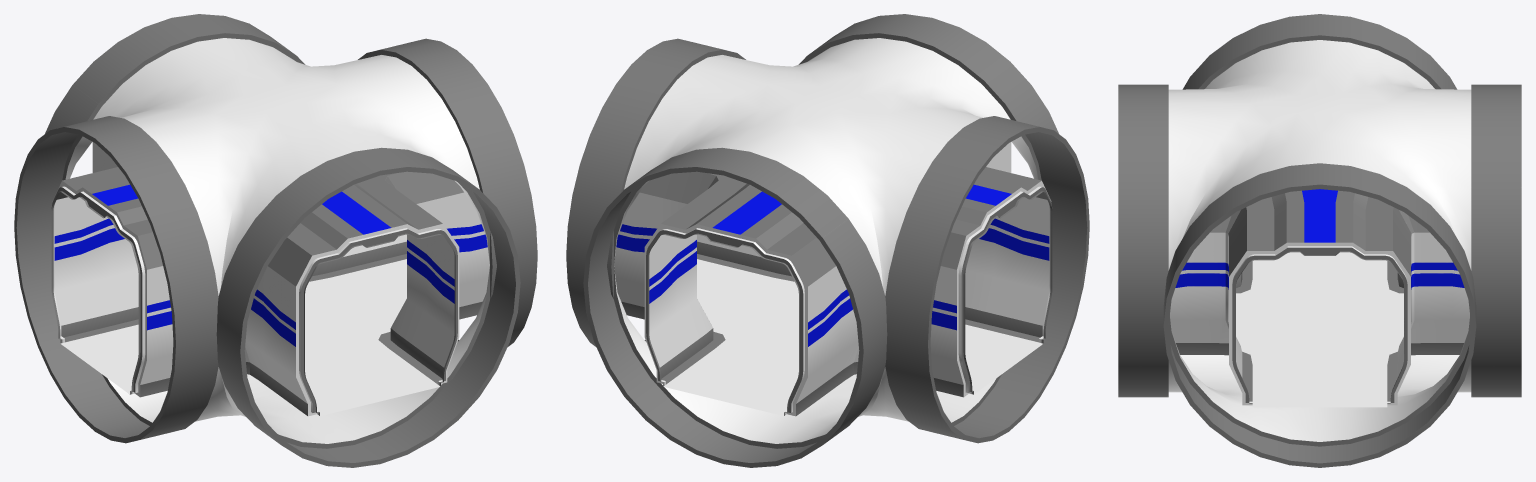
The model's file is PasilloX.fbx.
3 views of the same model, side by side, from view 1: azimuth 30°, elevation 25°; view 2: azimuth 150°, elevation 25°; view 3: azimuth 270°, elevation 25° (orthographic). The views are drawn at different scales.
Parts seen in each view (by area): view 1: PasilloX; view 2: PasilloX; view 3: PasilloX.
Part boxes in pixels (left/top/right/bottom): PasilloX: left=14, top=14, right=537, bottom=467; PasilloX: left=566, top=14, right=1089, bottom=467; PasilloX: left=1118, top=14, right=1521, bottom=467.
Size of the model in its own units: 1600 by 1240 by 1600.
Materials: 1 (1 with a texture image).
